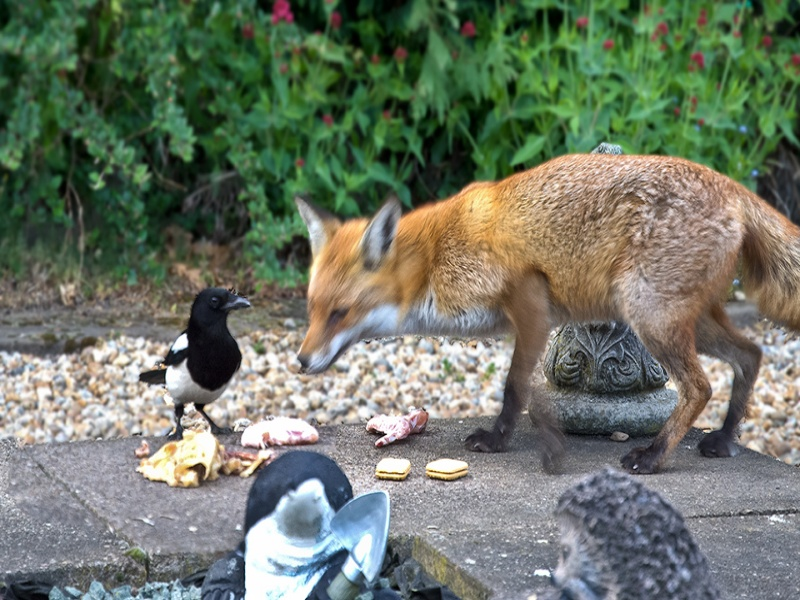fox: (290, 149, 800, 479)
